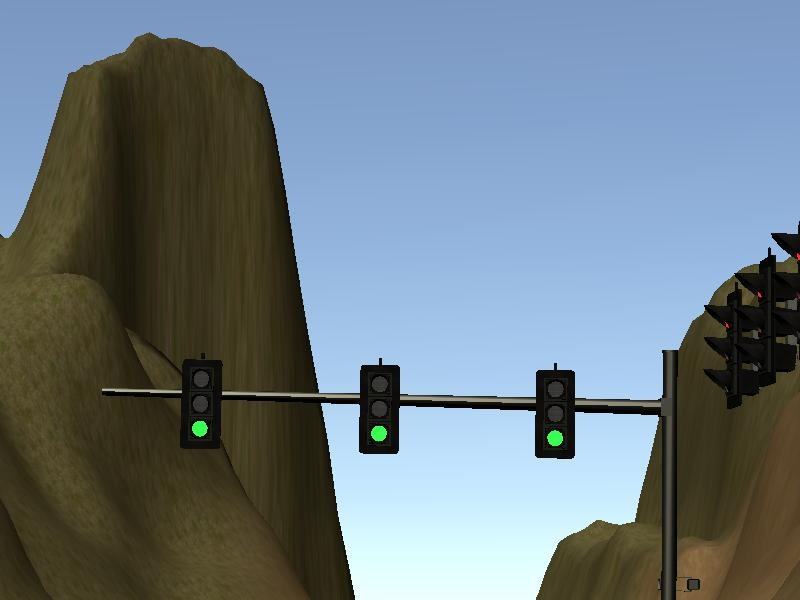green: (357, 364, 398, 454), (537, 369, 576, 457), (182, 359, 220, 449)
